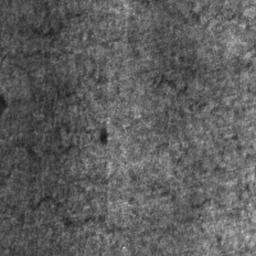Crazing: (28, 183, 250, 241), (0, 69, 108, 118), (0, 137, 81, 188), (163, 1, 252, 32), (30, 9, 87, 38), (157, 74, 188, 98), (98, 127, 109, 146), (215, 234, 222, 250)
